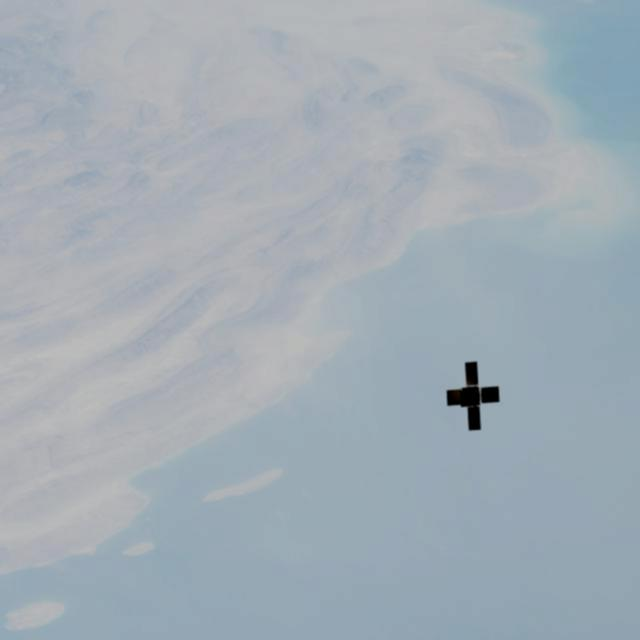satellite: (440, 356, 512, 436)
